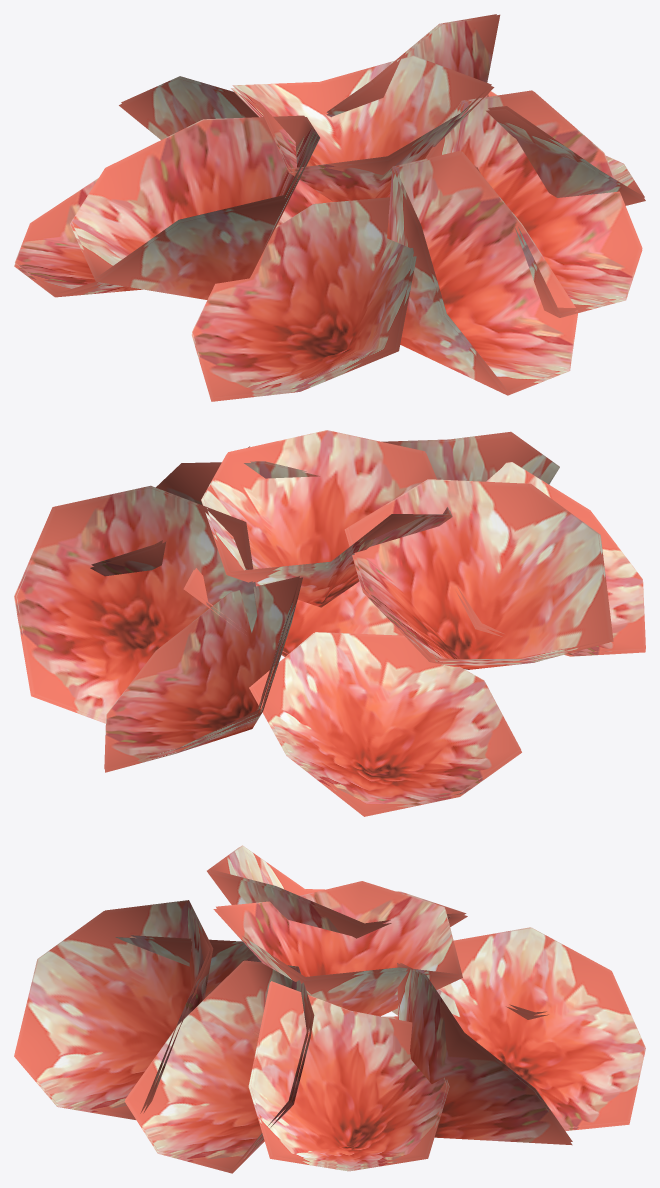
Rendered from flower_salmon_2.fbx.
3 views of the same model, one above another, from view 1: azimuth 30°, elevation 25°; view 2: azimuth 150°, elevation 25°; view 3: azimuth 270°, elevation 25° (orthographic). The views are drawn at different scales.
Visible parts, largest first — view 1: flower_salmon_2; view 2: flower_salmon_2; view 3: flower_salmon_2.
Boxes of the visible parts, x1,y1,x2,y2 form: flower_salmon_2: (14,14,645,401); flower_salmon_2: (14,430,645,816); flower_salmon_2: (14,845,645,1173).
Bounding box in the file's own units: 1.24 × 0.4772 × 1.35.
